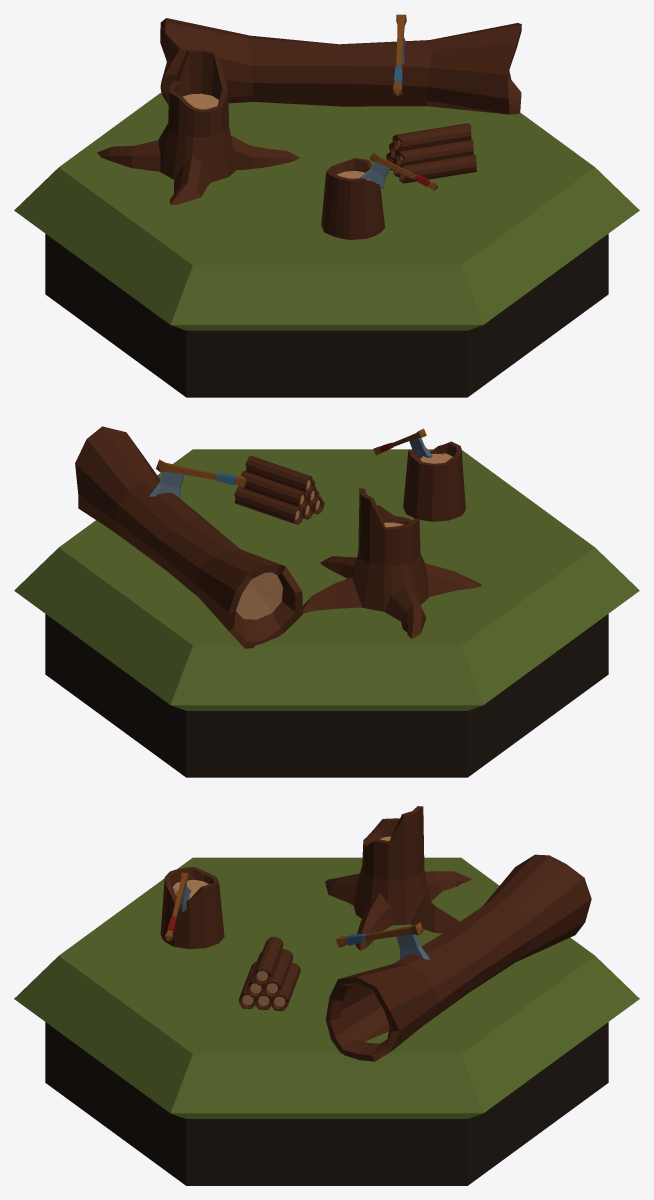
Rendered from trunk.obj.
3 views of the same model, one above another, from view 1: azimuth 30°, elevation 25°; view 2: azimuth 150°, elevation 25°; view 3: azimuth 270°, elevation 25° (orthographic).
Parts seen in each view (by area): view 1: ground, log, trunk, block, logPile, axeRed, axeBlue; view 2: ground, log, trunk, block, logPile, axeBlue, axeRed; view 3: ground, log, trunk, block, logPile, axeBlue, axeRed.
Part boxes in pixels (box(x1,y1,x2,y2)): ground: box(14, 92, 639, 397); log: box(160, 18, 521, 114); trunk: box(97, 49, 299, 204); block: box(321, 158, 384, 239); logPile: box(386, 123, 477, 183); axeRed: box(360, 152, 437, 190); axeBlue: box(392, 14, 406, 95); ground: box(14, 449, 639, 777); log: box(75, 426, 302, 648); trunk: box(302, 488, 481, 638); block: box(403, 441, 465, 521); logPile: box(234, 456, 324, 524); axeBlue: box(149, 459, 246, 498); axeRed: box(373, 428, 432, 458); ground: box(14, 857, 639, 1185); log: box(325, 854, 591, 1061); trunk: box(325, 806, 471, 950); block: box(160, 867, 224, 949); logPile: box(238, 936, 300, 1011); axeBlue: box(336, 922, 429, 959); axeRed: box(165, 872, 191, 941).
Size of the model in its own units: 7.23 by 3.41 by 8.35.
